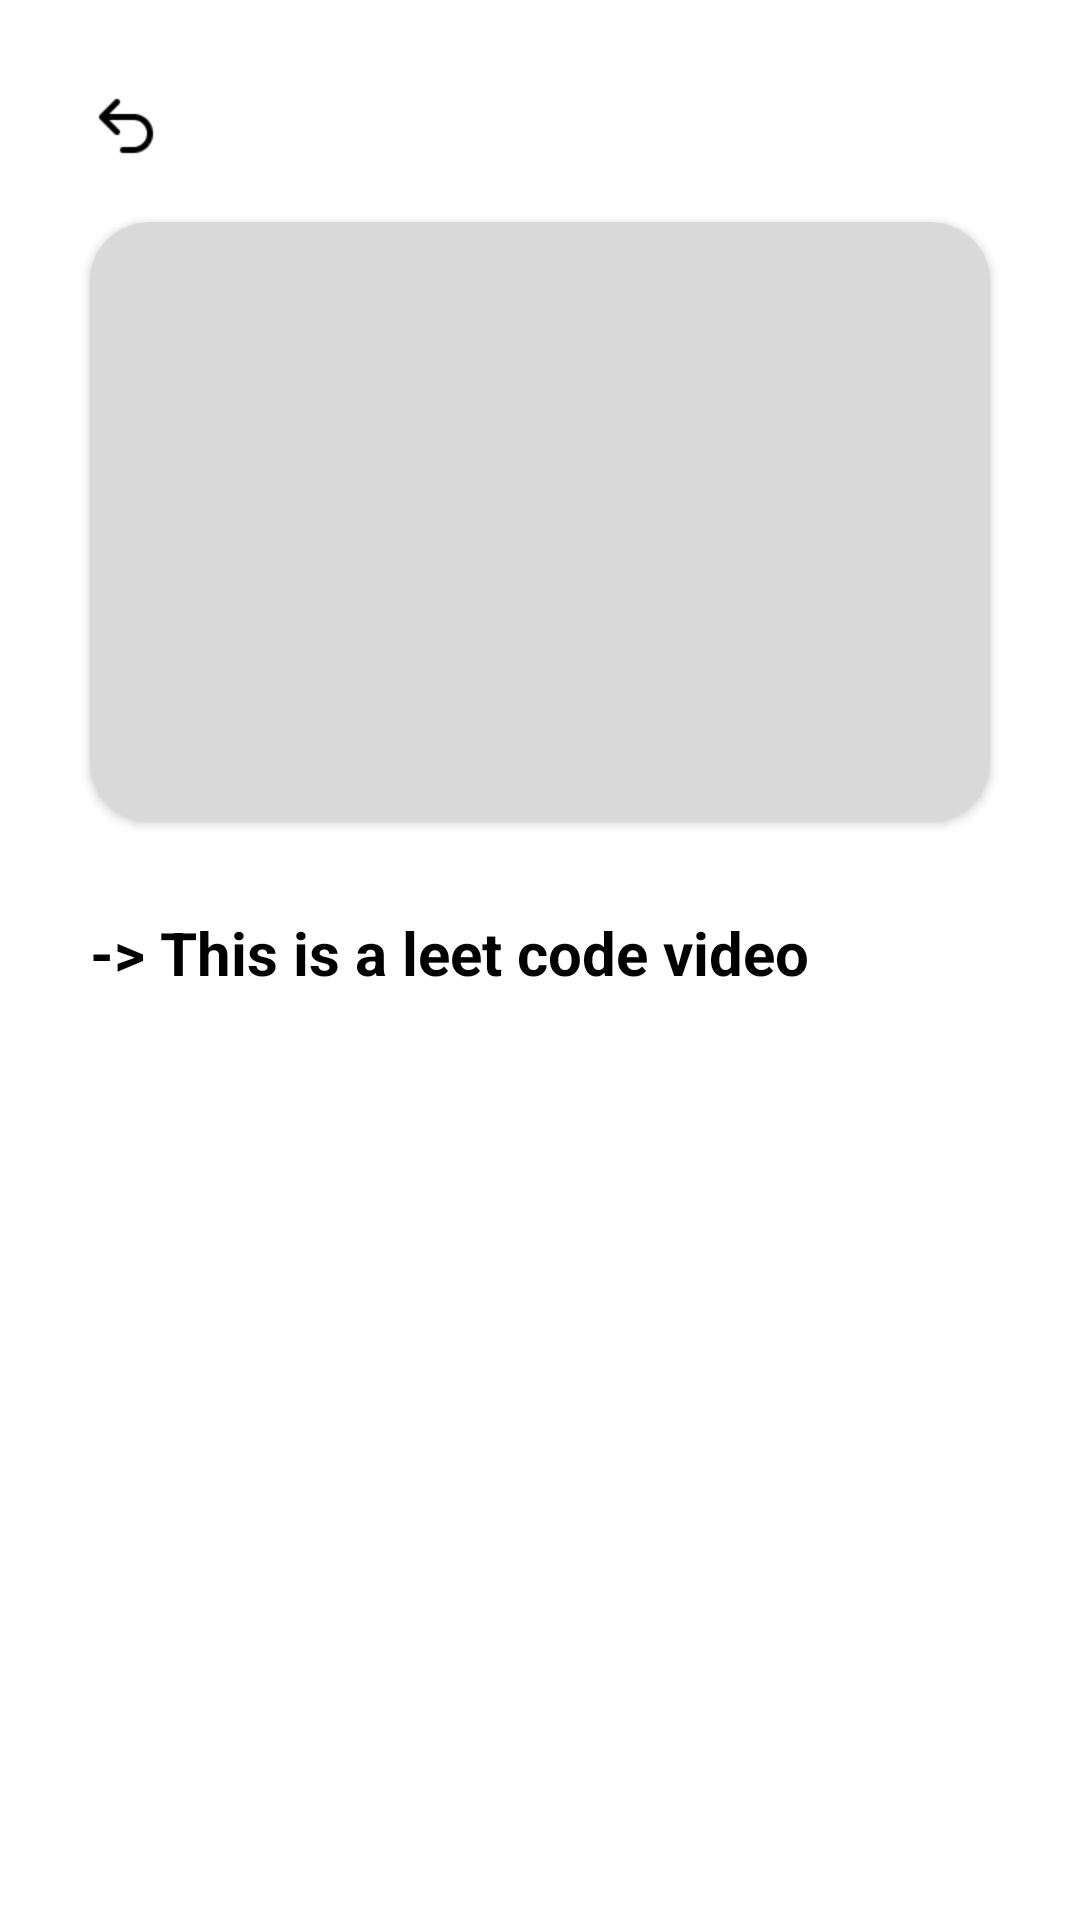

Point at icon controls on the screen. Image size 1080w x 1920h, points as point (x, y).
backarrow: point (126, 126)
